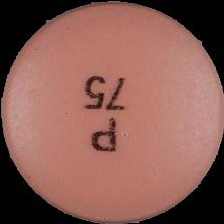66336-463: (0, 0, 224, 224)
